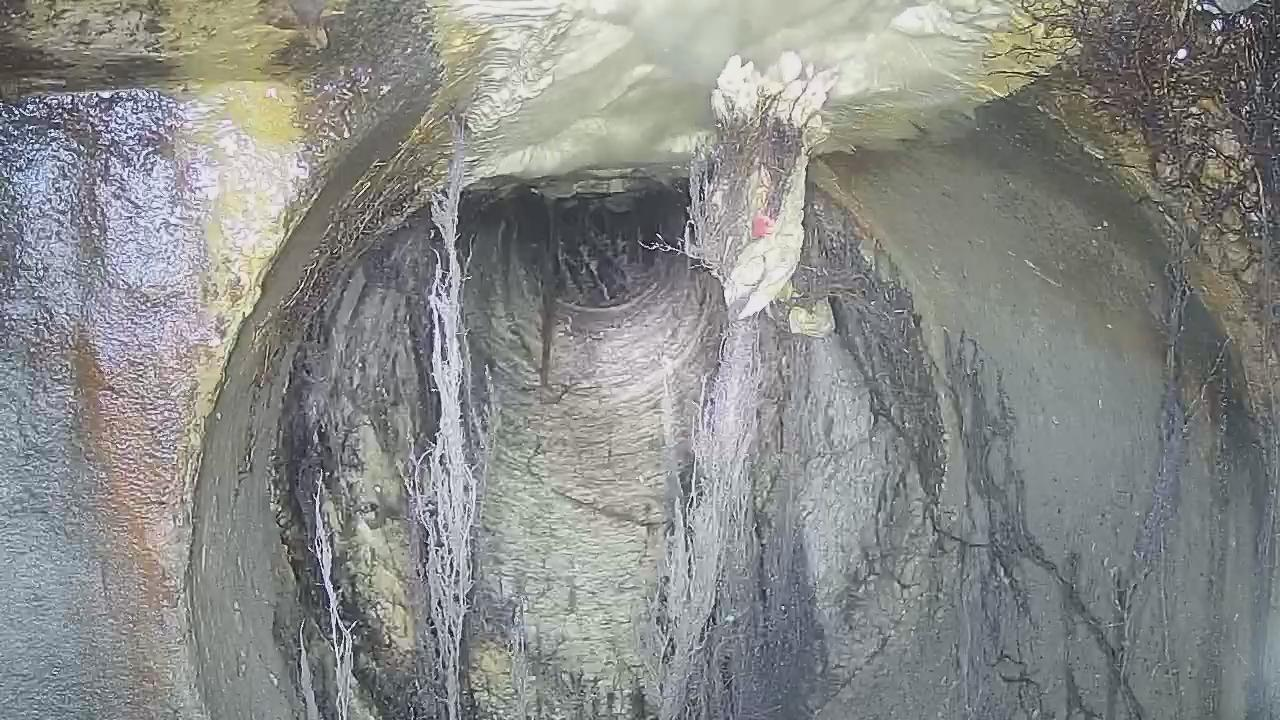SG: (188, 1, 1279, 720), (277, 53, 1140, 720)
